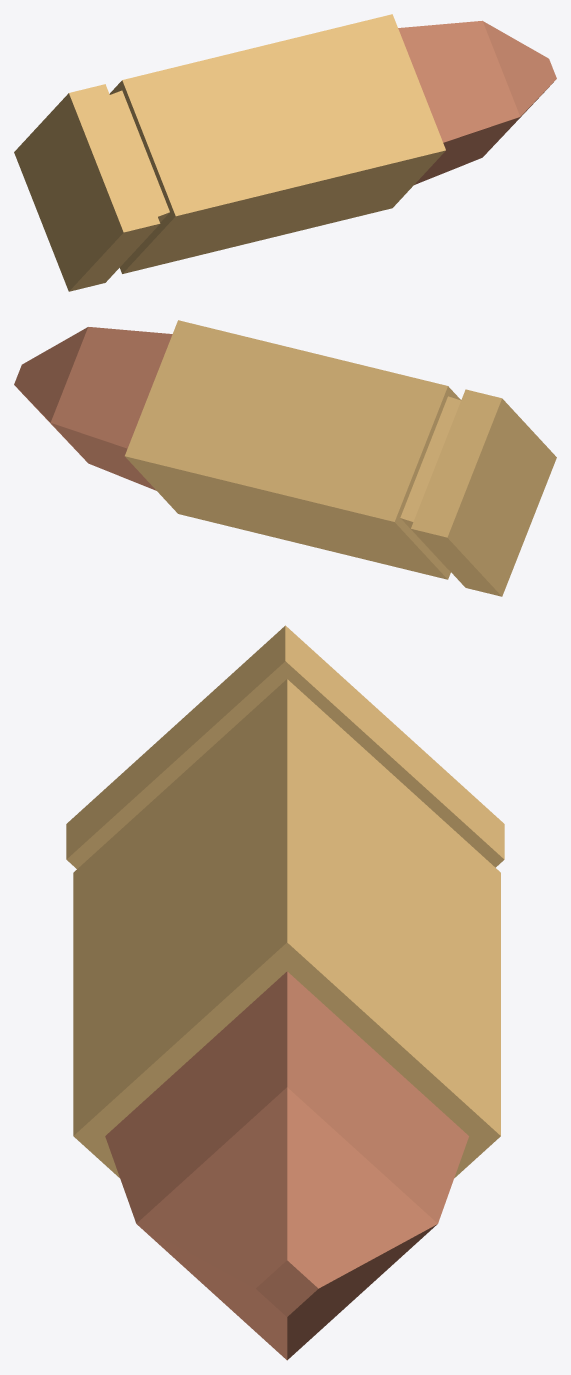
Rendered from bullet-9mm.glb.
3 renders of one model, top to bottom at view 1: azimuth 30°, elevation 25°; view 2: azimuth 150°, elevation 25°; view 3: azimuth 270°, elevation 25°, orthographic. The views are drawn at different scales.
Parts seen in each view (by area): view 1: bullet-9mm; view 2: bullet-9mm; view 3: bullet-9mm.
Part boxes in pixels (x1,y1,x2,y2): bullet-9mm: (14, 14, 556, 291); bullet-9mm: (14, 320, 556, 596); bullet-9mm: (66, 625, 504, 1360).
Bounding box in the file's own units: 0.0239 × 0.00943 × 0.00943.
